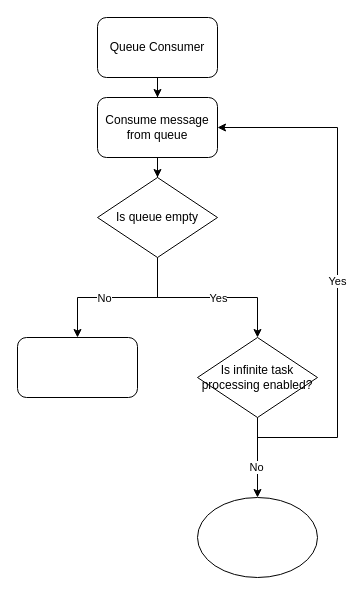
This 363x595 diagram has some shape labels left out. Each missing label, with the box of its shape:
Exit: (196, 496, 318, 578)
Parse message from queue: (16, 336, 138, 398)
